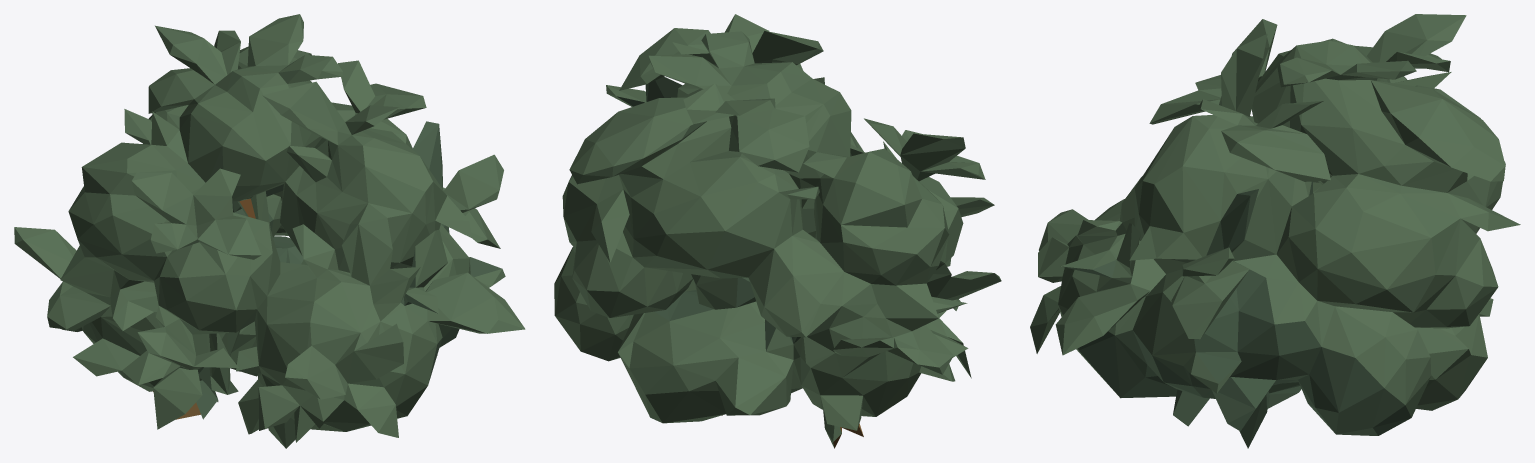
File: prop_leafy_bush_pre_chunk.glb
3 renders of one model, left to right at view 1: azimuth 30°, elevation 25°; view 2: azimuth 150°, elevation 25°; view 3: azimuth 270°, elevation 25°, orthographic. The views are drawn at different scales.
Parts seen in each view (by area): view 1: LeafCanopy; view 2: LeafCanopy; view 3: LeafCanopy.
Boxes of the visible parts, bbox=[...] form: LeafCanopy: bbox=[14, 14, 525, 448]; LeafCanopy: bbox=[554, 14, 1001, 447]; LeafCanopy: bbox=[1030, 14, 1520, 448].
Size of the model in its own units: 1 by 0.8567 by 0.9996.
